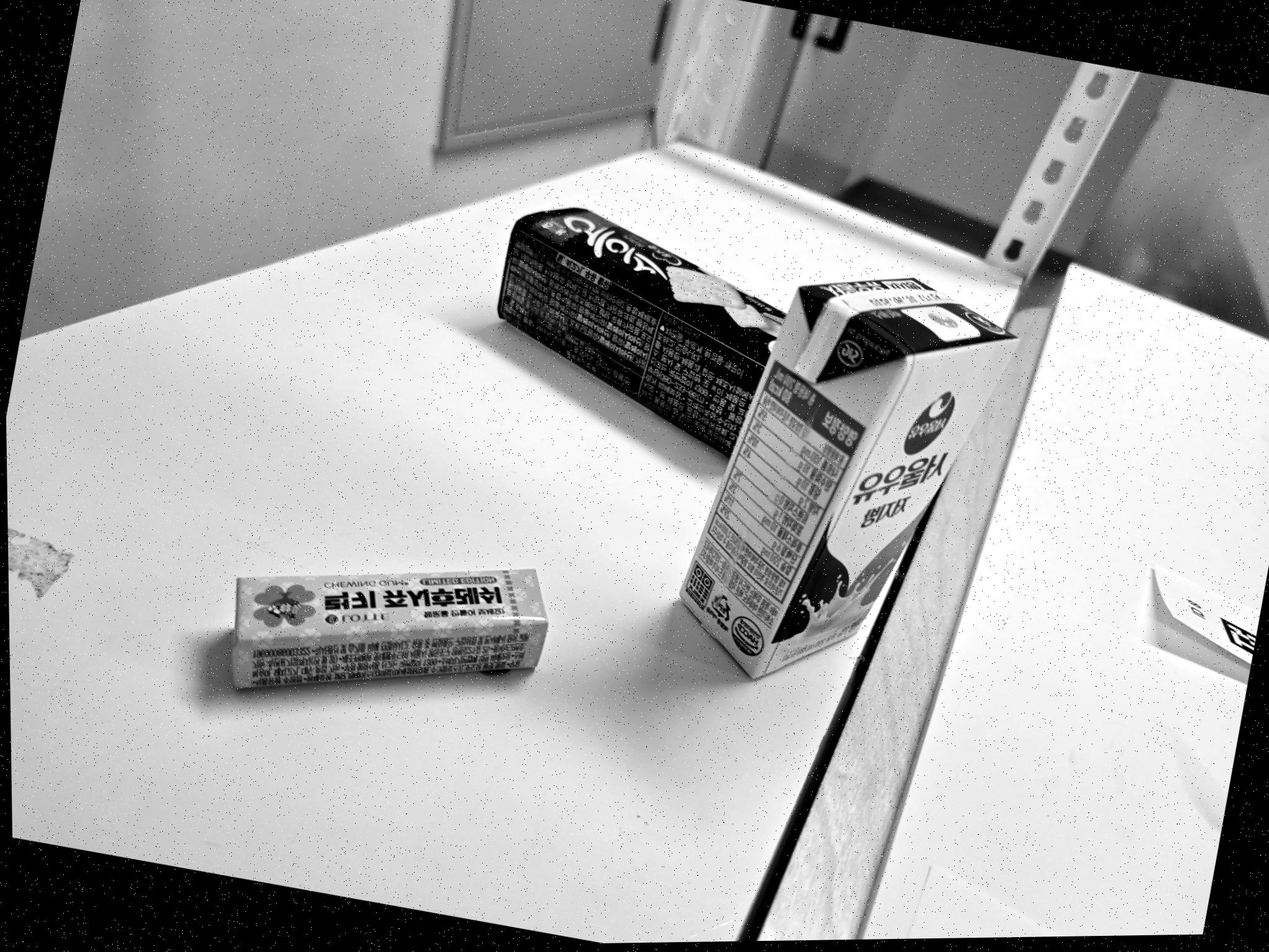cracker_ace: (497, 207, 784, 454)
gum_yellow: (231, 569, 548, 689)
milk_blue: (680, 278, 1016, 678)
